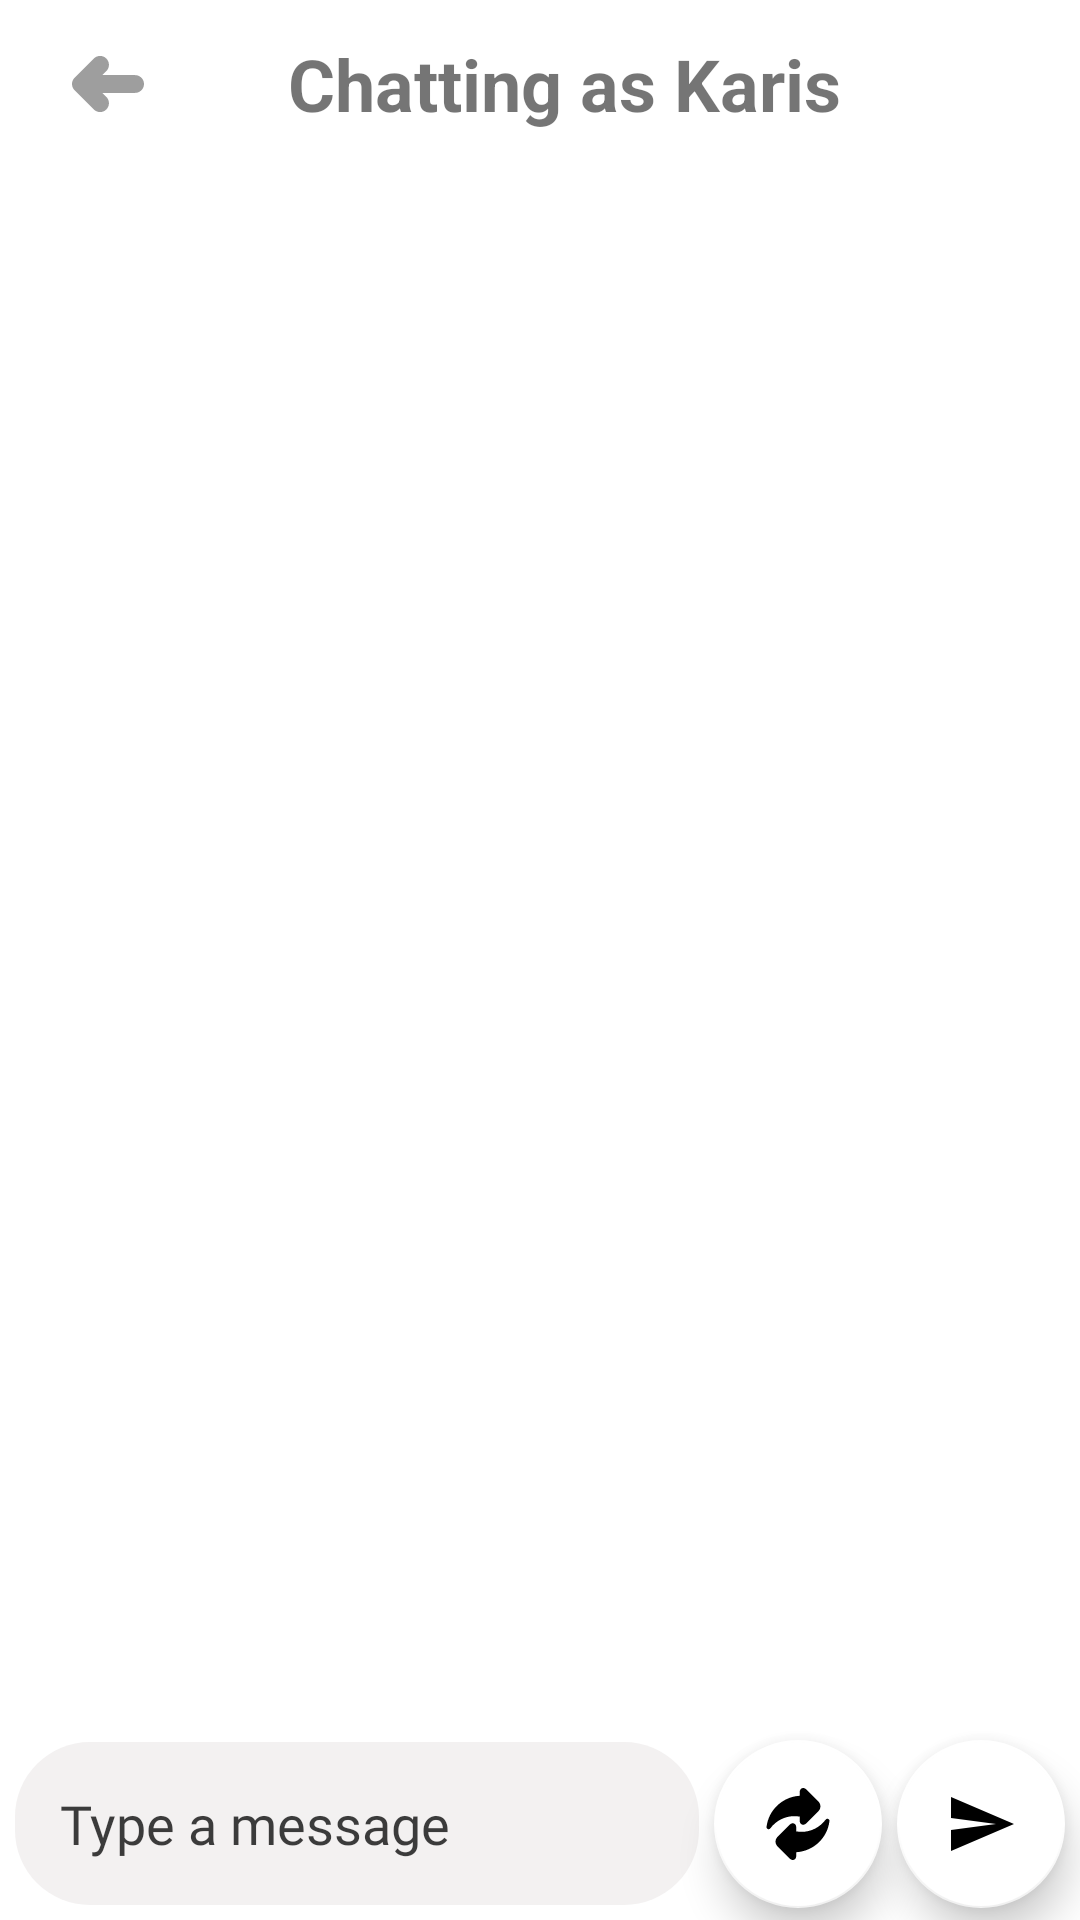

Where to tap for icons on this 1080 x 1920 app screen, as (x=x, y=y):
back: (x=108, y=84)
exchange: (x=798, y=1824)
send: (x=981, y=1852)
